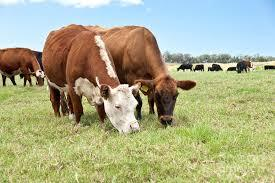cow: (85, 26, 197, 127), (41, 24, 139, 135), (0, 47, 47, 86), (236, 61, 251, 74), (175, 62, 194, 72), (193, 64, 204, 73), (211, 64, 222, 72)
